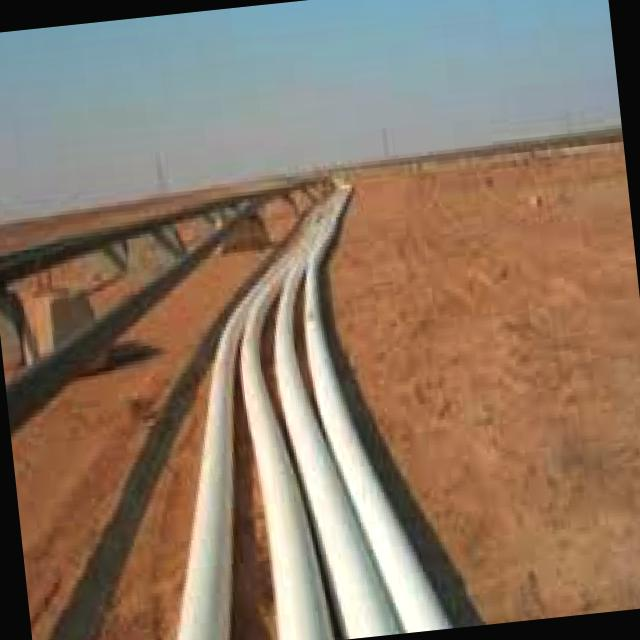gas: (302, 201, 448, 632), (273, 264, 399, 637), (176, 273, 269, 640), (241, 268, 331, 640)
